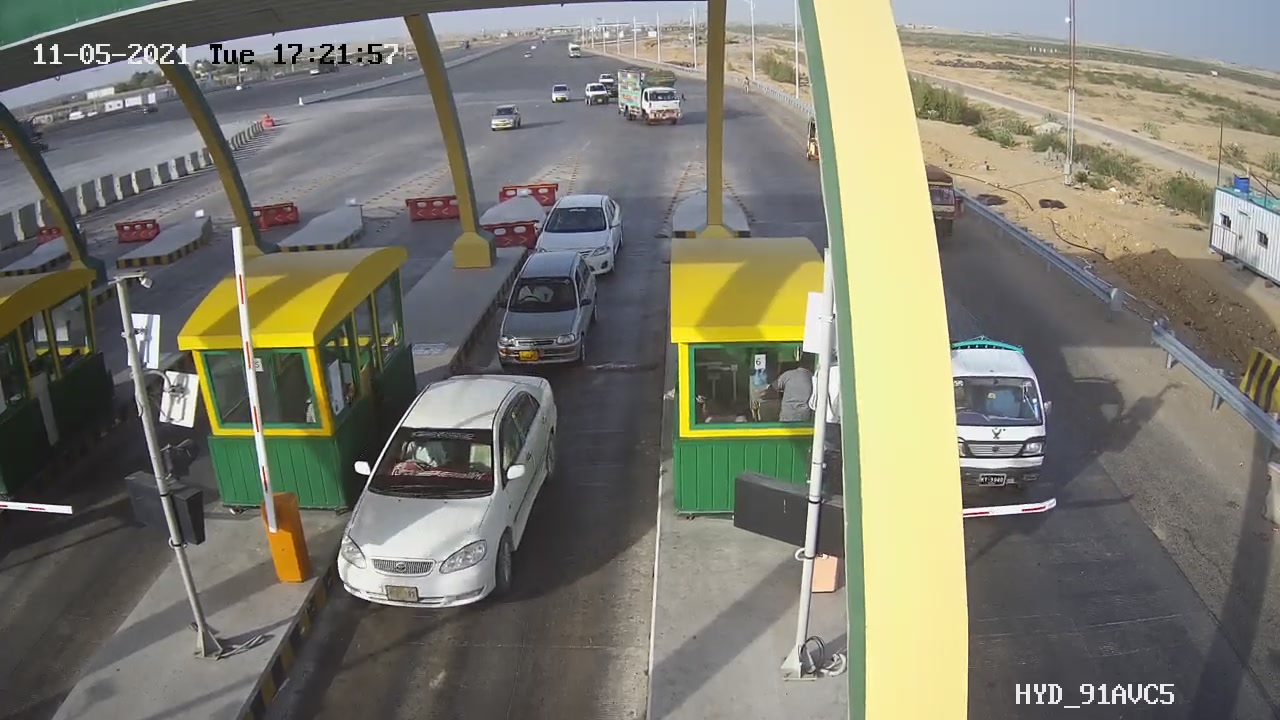F1: (324, 356, 579, 630), (487, 243, 616, 379)
